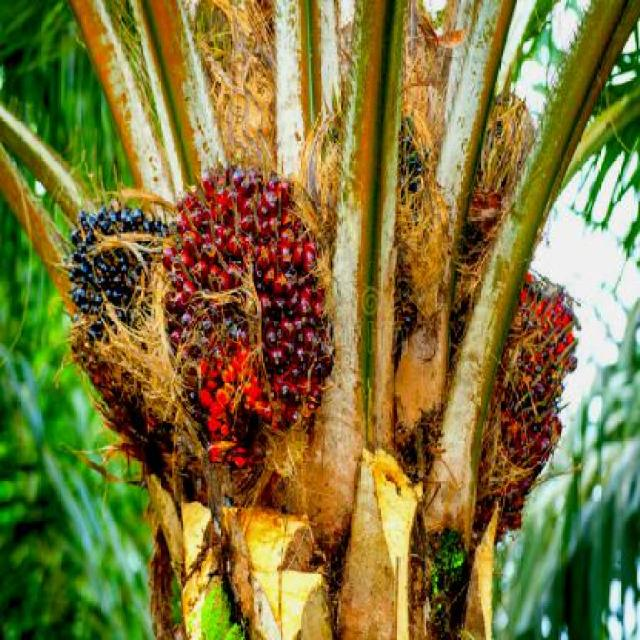palm-oil: (167, 156, 333, 482), (45, 196, 179, 402), (490, 250, 578, 524)
